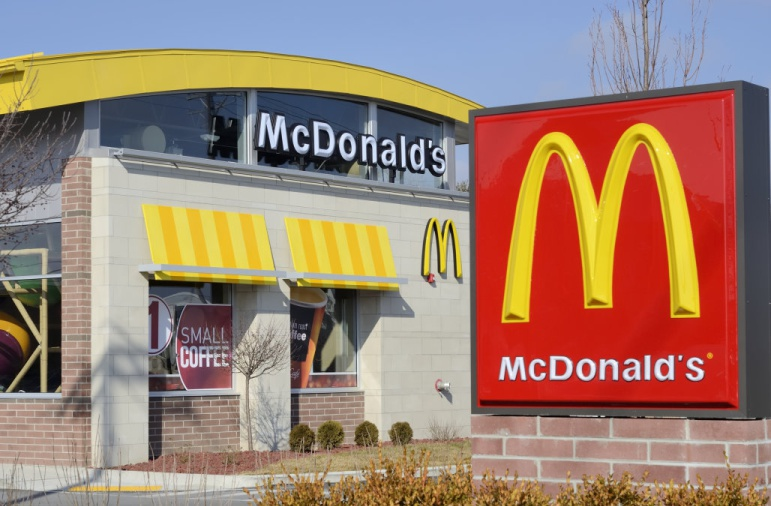mcdonalds: (492, 116, 709, 333), (415, 214, 472, 283)
